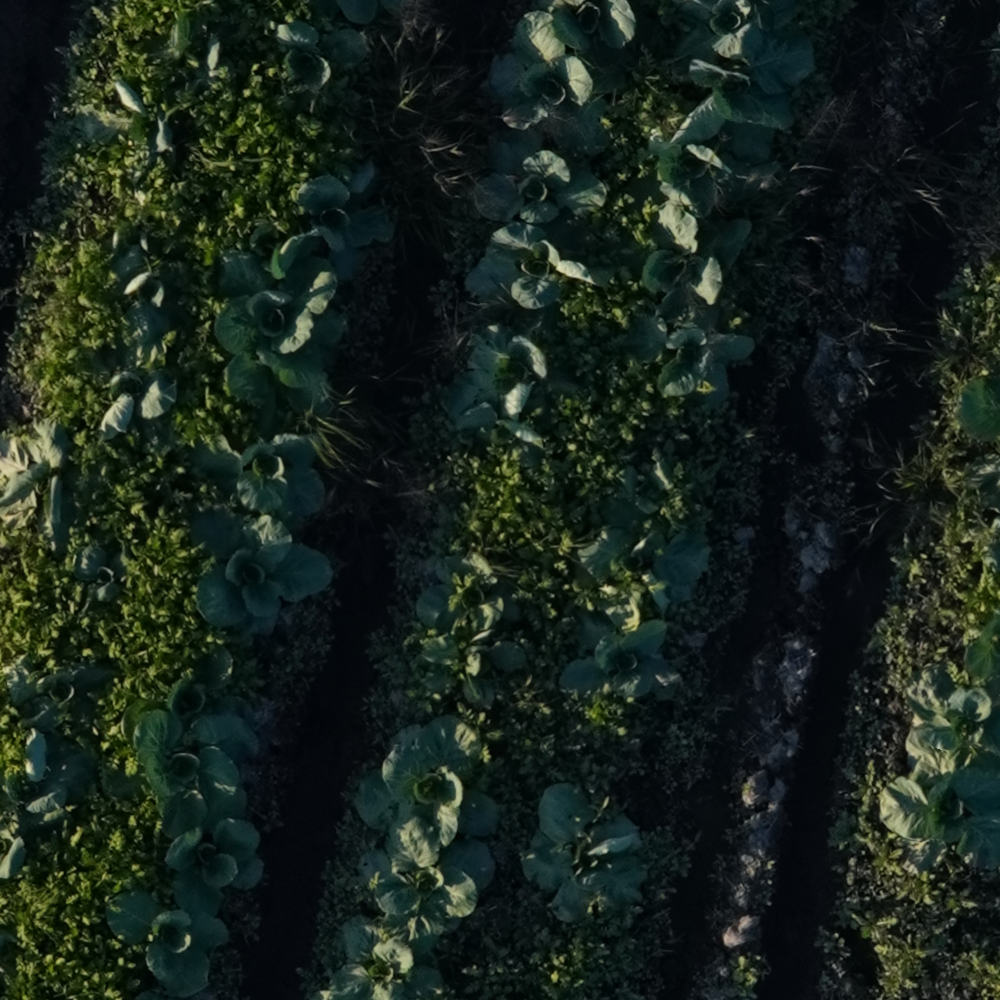Cabbage: (214, 250, 348, 411), (668, 26, 820, 162), (189, 508, 335, 640), (111, 708, 259, 836), (492, 10, 627, 150), (356, 715, 499, 846), (519, 782, 646, 920), (358, 816, 497, 936), (620, 204, 751, 330), (402, 596, 533, 709), (465, 219, 616, 312), (279, 159, 394, 281), (878, 761, 1000, 873), (441, 326, 550, 447), (472, 130, 607, 226), (187, 431, 324, 524), (104, 892, 227, 995), (628, 312, 755, 407), (117, 644, 251, 734), (576, 524, 710, 613), (651, 128, 781, 218), (659, 0, 810, 74), (904, 662, 1000, 774), (561, 613, 684, 700), (329, 912, 445, 1000), (163, 817, 264, 914), (111, 222, 191, 342), (414, 551, 531, 631), (0, 418, 67, 556), (275, 22, 372, 112), (70, 80, 174, 154), (7, 666, 121, 733), (537, 0, 636, 68), (25, 730, 97, 821), (100, 369, 177, 440), (71, 544, 127, 604), (169, 10, 221, 70), (955, 374, 1000, 443), (0, 820, 27, 881)
